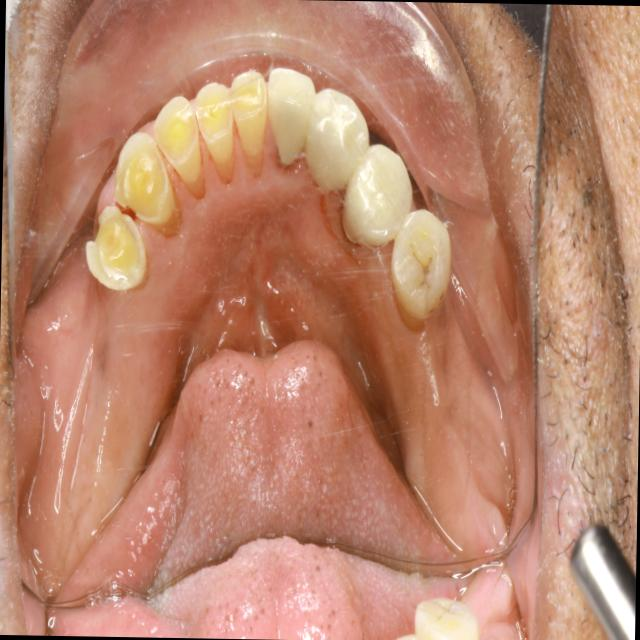tooth: (106, 123, 187, 244), (304, 74, 373, 212), (388, 197, 456, 335), (342, 128, 415, 256), (80, 205, 157, 305), (186, 73, 246, 194), (152, 91, 213, 207), (263, 56, 318, 179), (222, 57, 276, 182)
